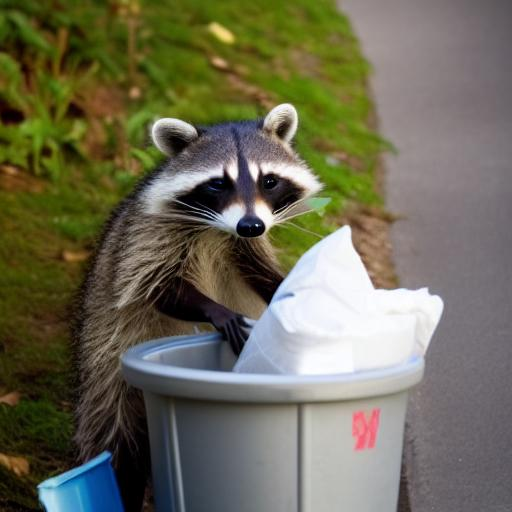raccoon: (61, 95, 338, 449)
